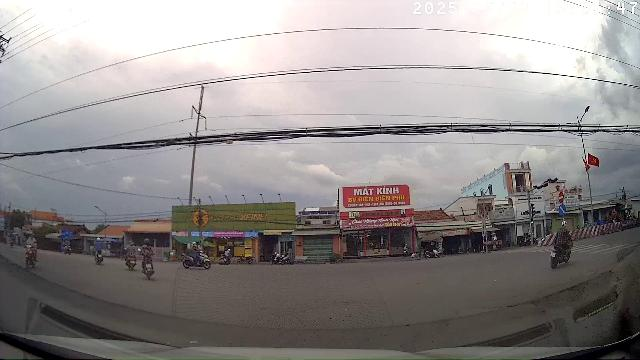102-cam-di-nguoc-chieu: (558, 191, 564, 203)
302a-huong-phai-di-vong-chuong-ngai-vat-1: (558, 205, 566, 216)
